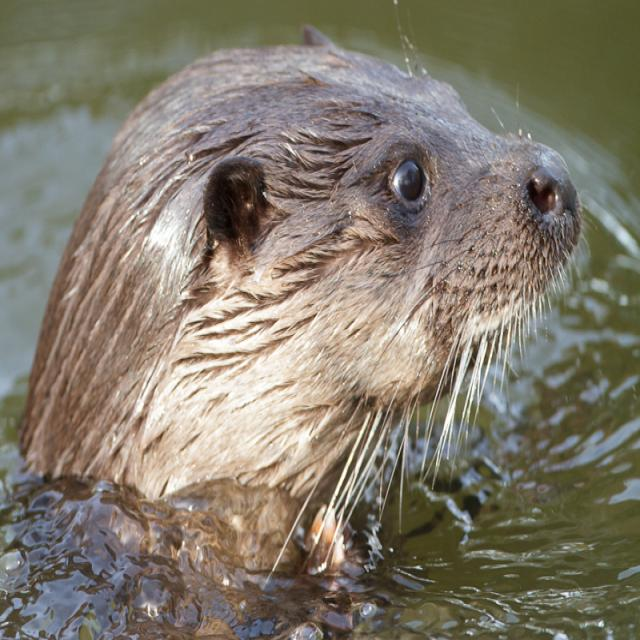otter: (23, 38, 582, 498)
